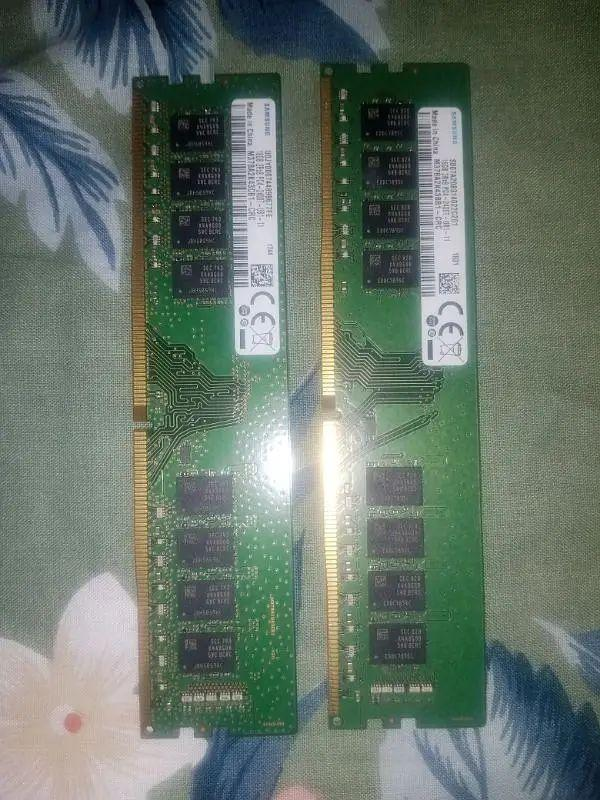electronic: (311, 49, 499, 740), (121, 65, 306, 742)
